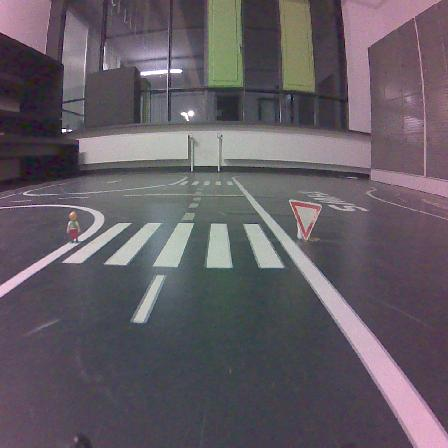CHILD: (67, 211, 80, 242)
GIVE_WAY: (289, 199, 321, 240)
